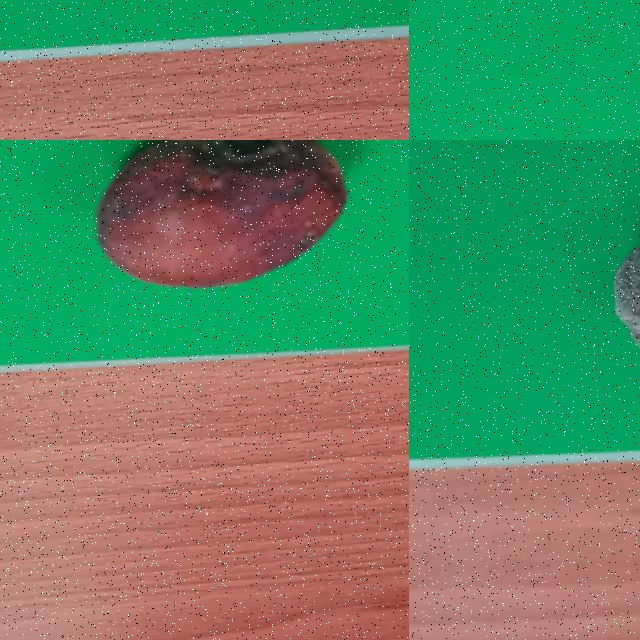Agglomerated_cocoabeans: (564, 151, 639, 455)
Fine_cocoabeans: (33, 140, 408, 329)
